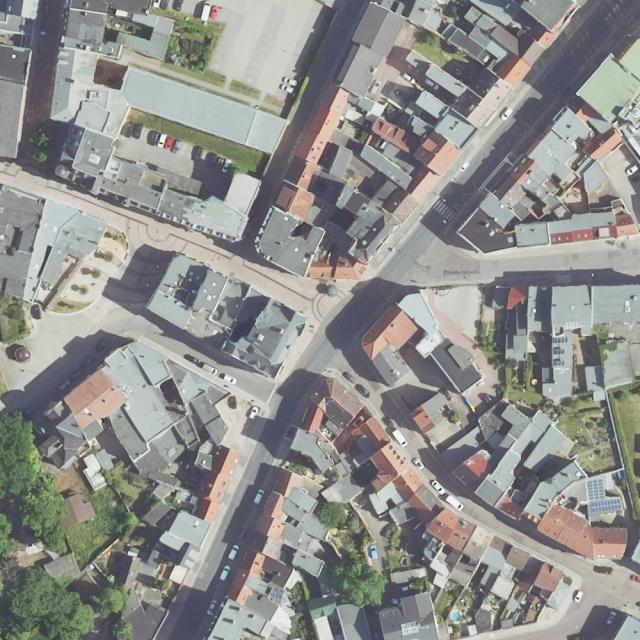PV: (587, 478, 621, 513), (553, 336, 568, 366), (270, 588, 283, 598)
